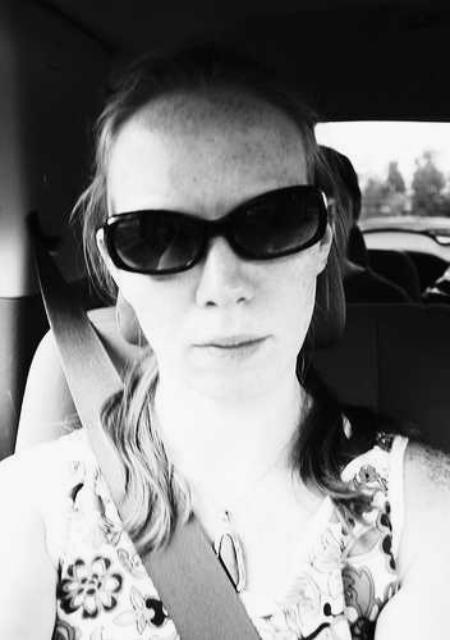Seatbelt: (30, 256, 268, 640)
